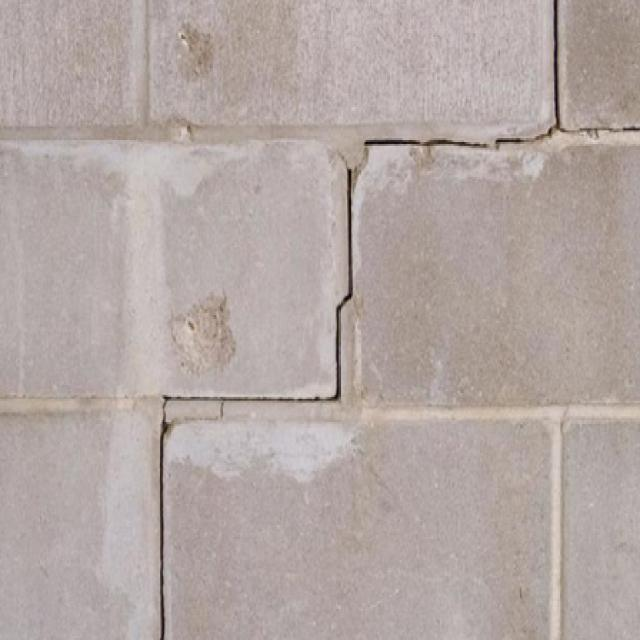Crack: (152, 0, 638, 638)
